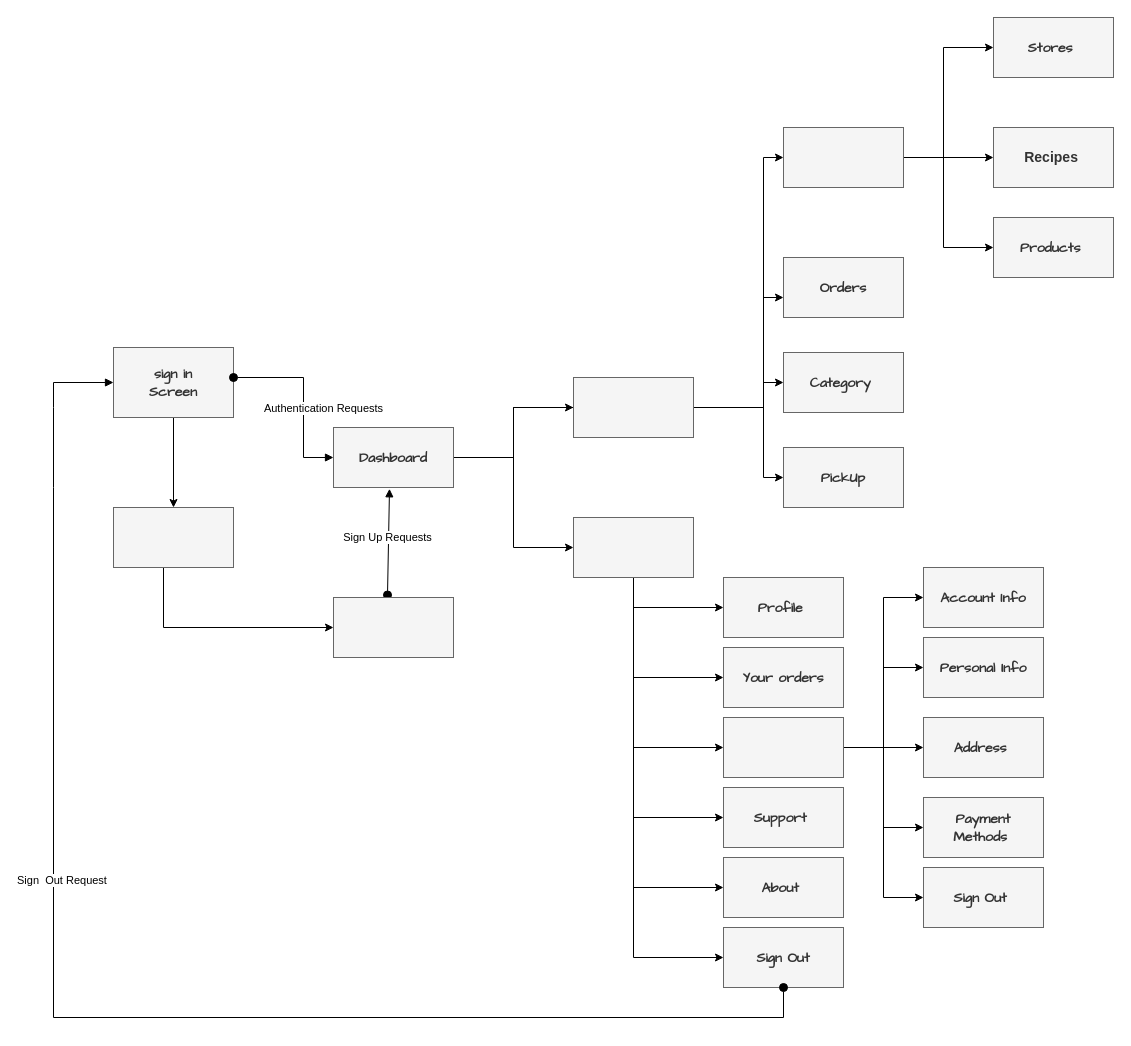
The diagram is 1131 pixels wide and 1046 high, and some of its shapes have lost their labels. Each missing label, with the box of its shape:
Account Settings: (722, 716, 844, 778)
Drawer: (572, 516, 694, 578)
home: (782, 126, 904, 188)
Home Screen: (572, 376, 694, 438)
Sign Up Screen: (112, 506, 234, 568)
Validate User: (332, 596, 454, 658)
